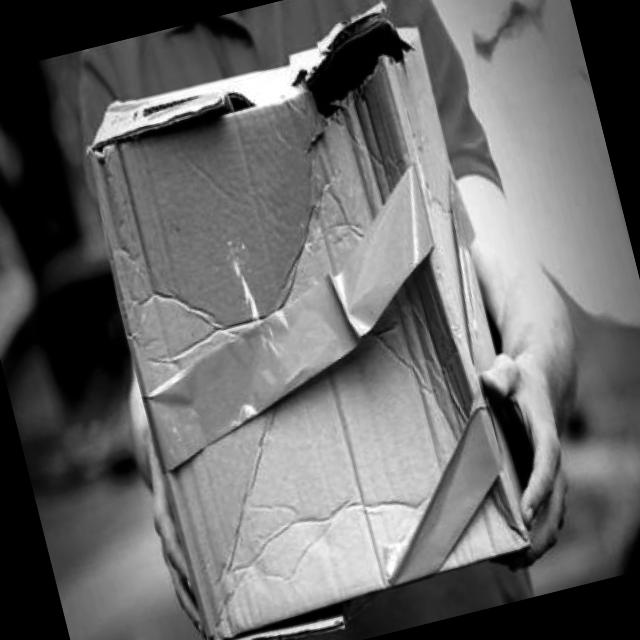box: (66, 0, 564, 640)
